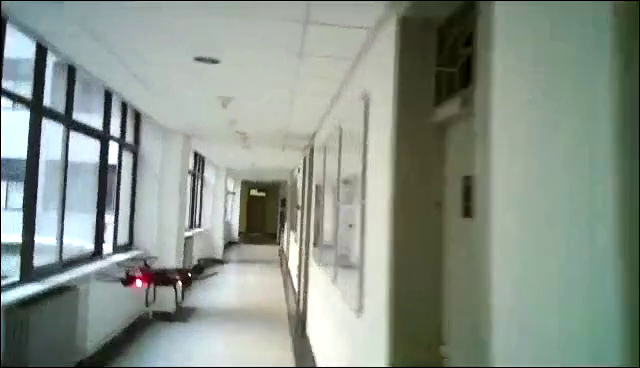drone: (107, 254, 227, 311)
